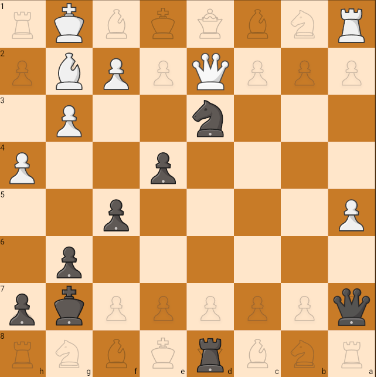bk: (51, 285, 88, 328)
bn: (189, 98, 232, 141)
bp: (2, 286, 42, 329), (145, 148, 186, 187), (99, 194, 137, 234), (52, 241, 87, 282)
bq: (331, 287, 371, 326)
br: (188, 333, 231, 375)
wb: (50, 49, 91, 93)
wk: (48, 2, 91, 47)
wp: (3, 144, 42, 187), (51, 99, 90, 139), (98, 53, 136, 91), (336, 194, 369, 232)
wq: (191, 52, 233, 92)
wr: (333, 3, 373, 46)
